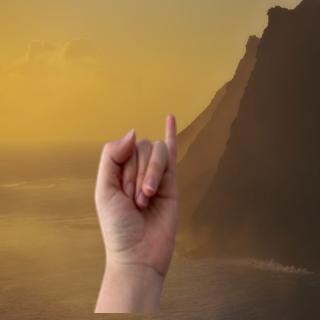Fine: (93, 111, 190, 280)
